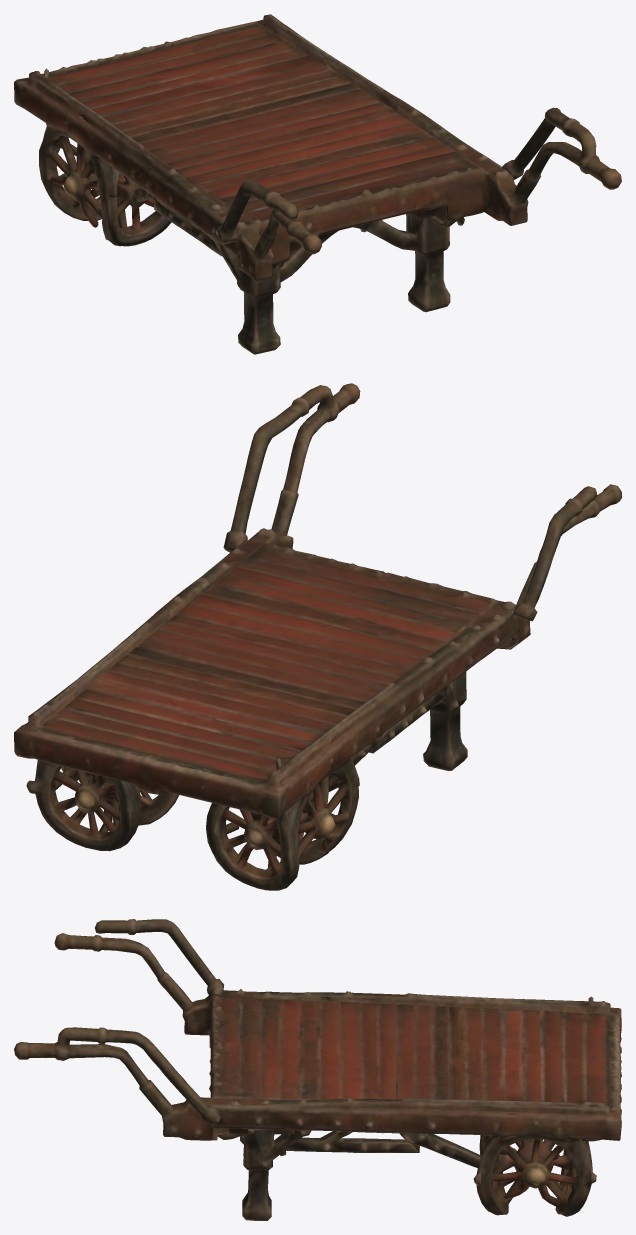
3 renders of one model, top to bottom at view 1: azimuth 30°, elevation 25°; view 2: azimuth 150°, elevation 25°; view 3: azimuth 270°, elevation 25°, orthographic. The views are drawn at different scales.
Visible parts, largest first — view 1: Mindflower_V15_luggage_trolley_baked; view 2: Mindflower_V15_luggage_trolley_baked; view 3: Mindflower_V15_luggage_trolley_baked.
Part boxes in pixels (box(x1,y1,x2,y2)): Mindflower_V15_luggage_trolley_baked: box(14, 14, 621, 354); Mindflower_V15_luggage_trolley_baked: box(14, 383, 621, 890); Mindflower_V15_luggage_trolley_baked: box(14, 919, 621, 1220).
Bounding box in the file's own units: 0.4851 × 0.3547 × 0.922.
1 material, 1 textured.
